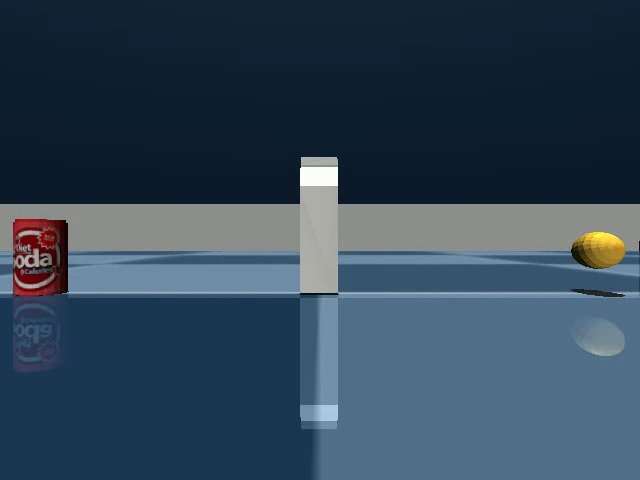can: (4, 212, 77, 305)
lemon: (567, 225, 627, 273)
milk: (291, 150, 345, 304)
